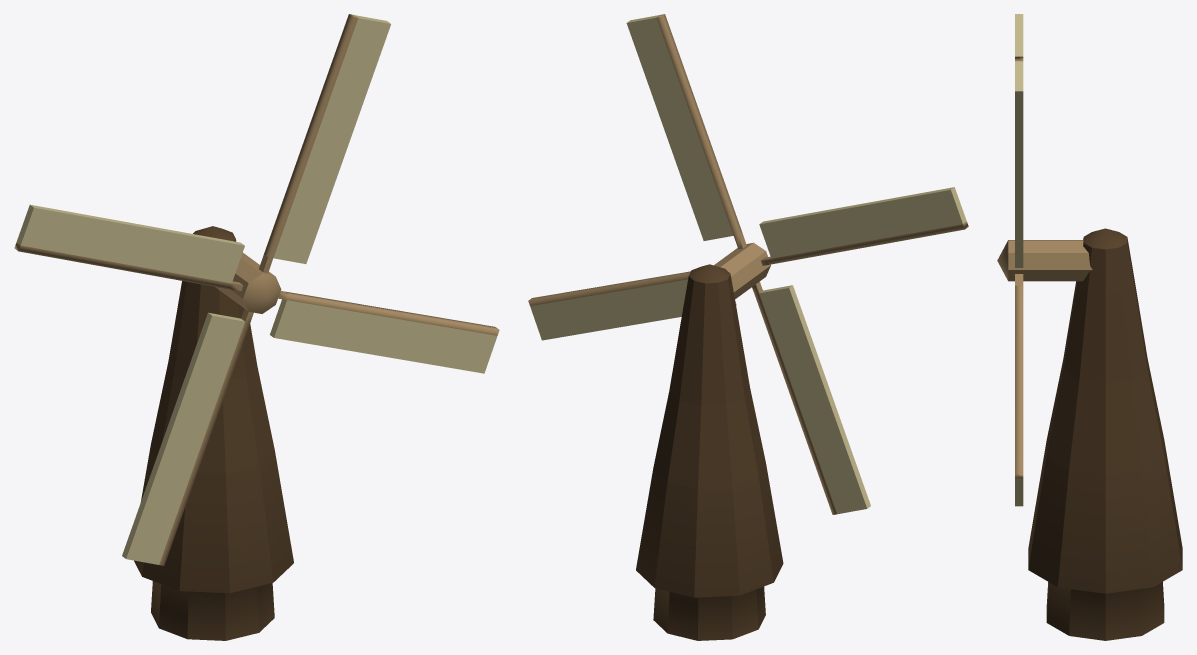
The model's file is gBWindMill_v02.fbx.
3 renders of one model, left to right at view 1: azimuth 30°, elevation 25°; view 2: azimuth 150°, elevation 25°; view 3: azimuth 270°, elevation 25°, orthographic. The views are drawn at different scales.
Parts seen in each view (by area): view 1: windMillFan_02, windMillBody_02; view 2: windMillFan_02, windMillBody_02; view 3: windMillBody_02, windMillFan_02.
Part boxes in pixels (<box>): windMillFan_02: <box>14,14,499,565</box>; windMillBody_02: <box>134,226,293,640</box>; windMillFan_02: <box>528,14,968,514</box>; windMillBody_02: <box>636,264,783,640</box>; windMillBody_02: <box>1028,228,1182,640</box>; windMillFan_02: <box>997,14,1092,506</box>.
Bounding box in the file's own units: 1800 × 2175 × 605.
